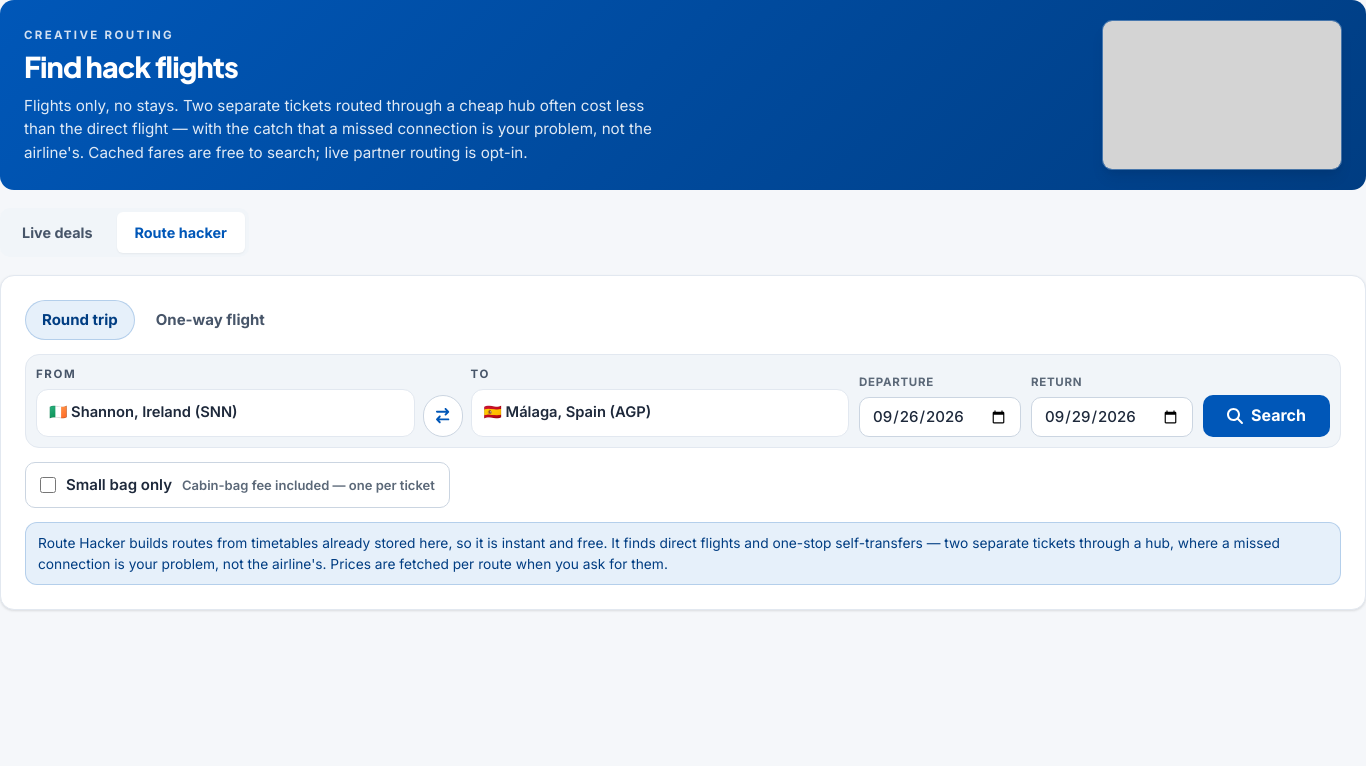
it: Hack Flights search controls › counts the routes on show, and keeps counting as the filters bite
Click the radio button labelled "One-way flight" at coordinates (210, 320), box [156,310,265,329]
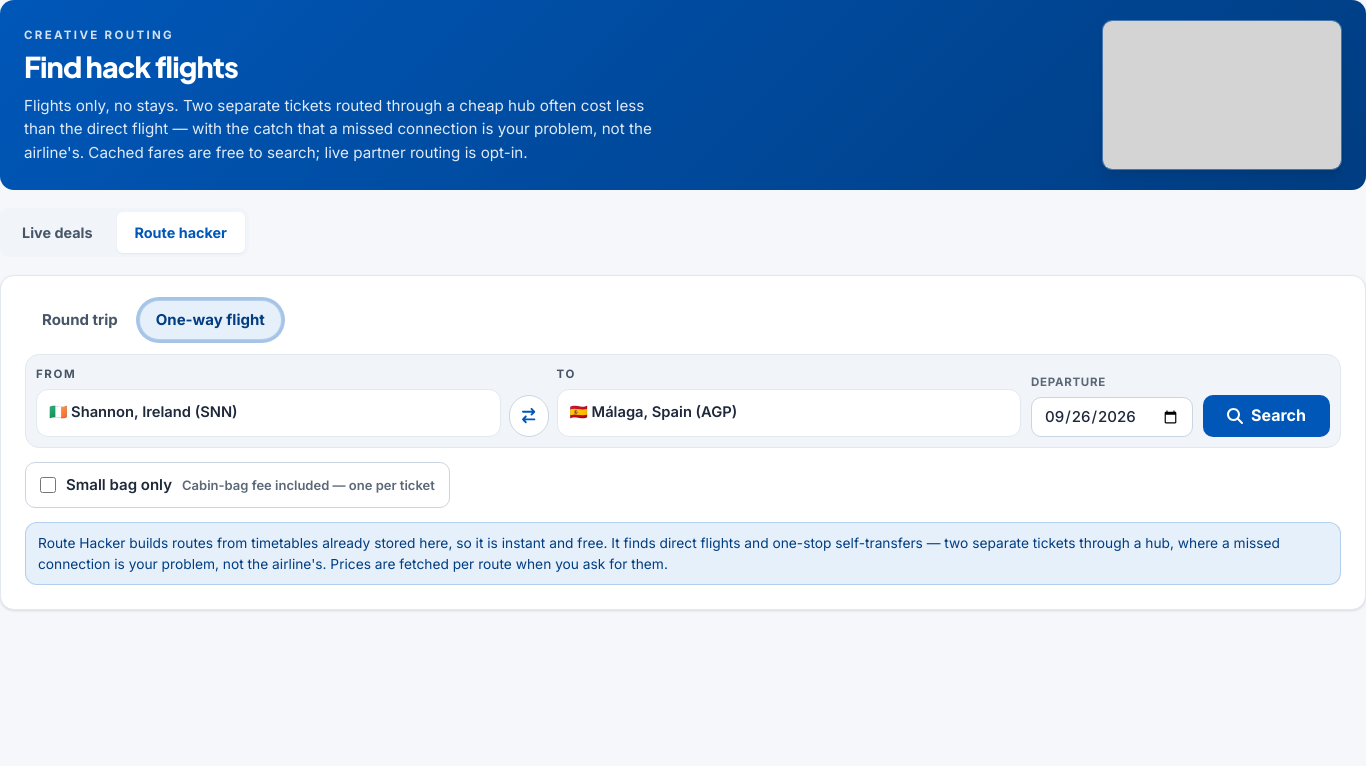
Click the button with aria-label "assemble hacker routes" at coordinates (1266, 416), box [1203,395,1330,437]
(page scrolled)
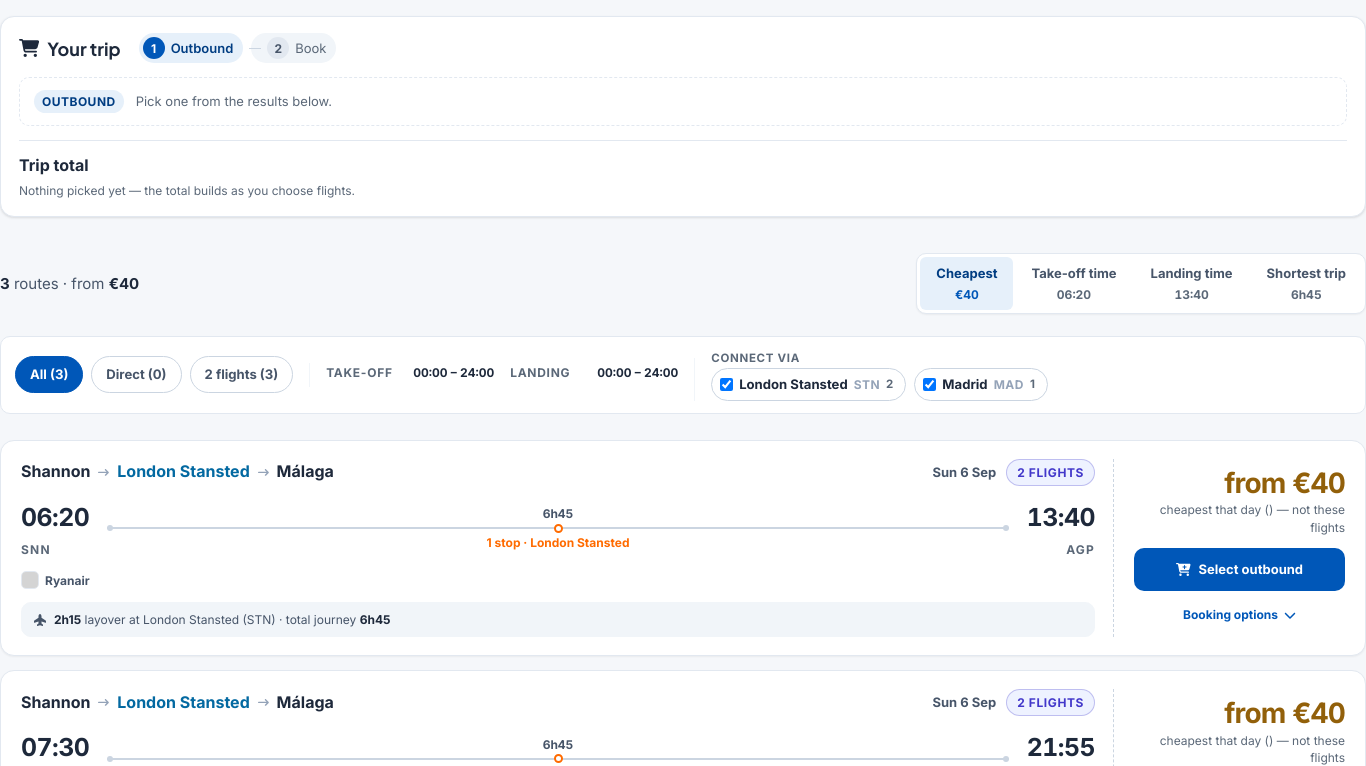
Expected: the element named "Filter routes by stops" is shown, [15,356,293,394]
Expected: the element with class "hack-flights__result-count" shows "3 routes", [0,272,139,296]
Note: Untick Stansted and the headline follows the list, singular and all.
Click the checkbox labelled "London Stansted STN 2" at coordinates (727, 384), box [720,378,733,391]
(page scrolled)
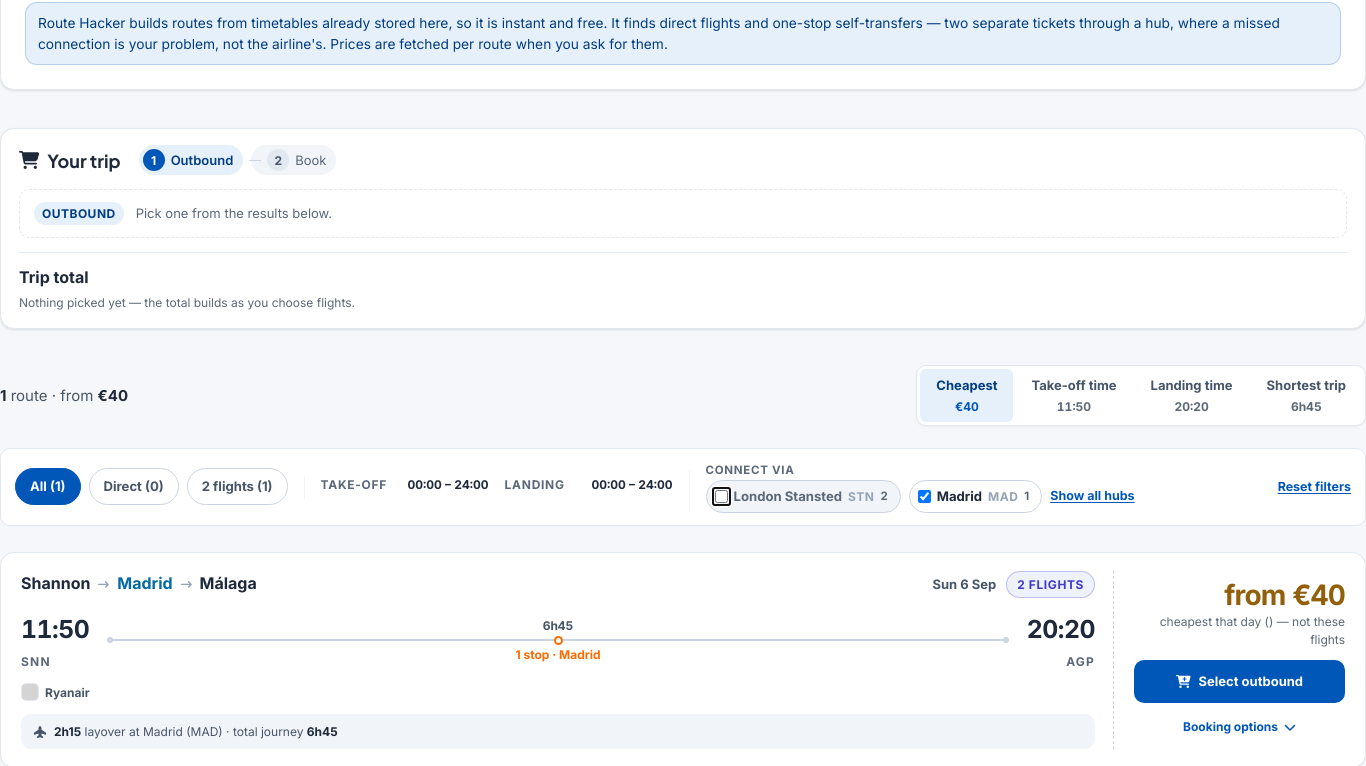
Expected: the element with class "hack-flights__result-count" shows "1 route", [0,384,128,408]
